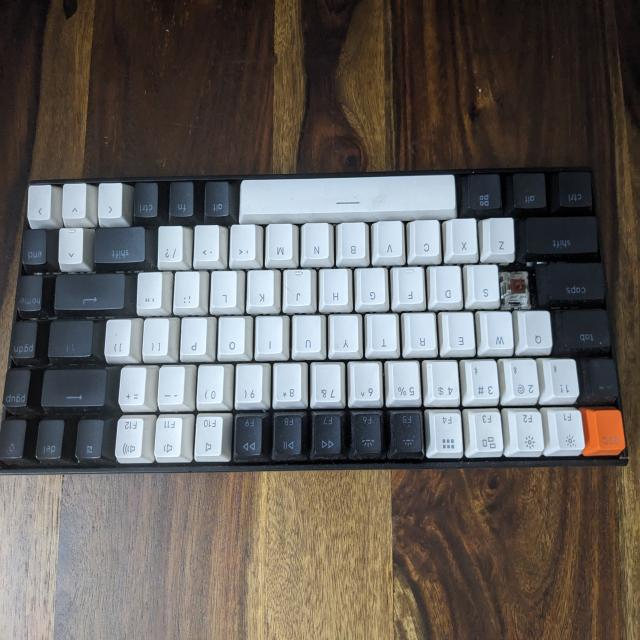C: (500, 266, 530, 308)
